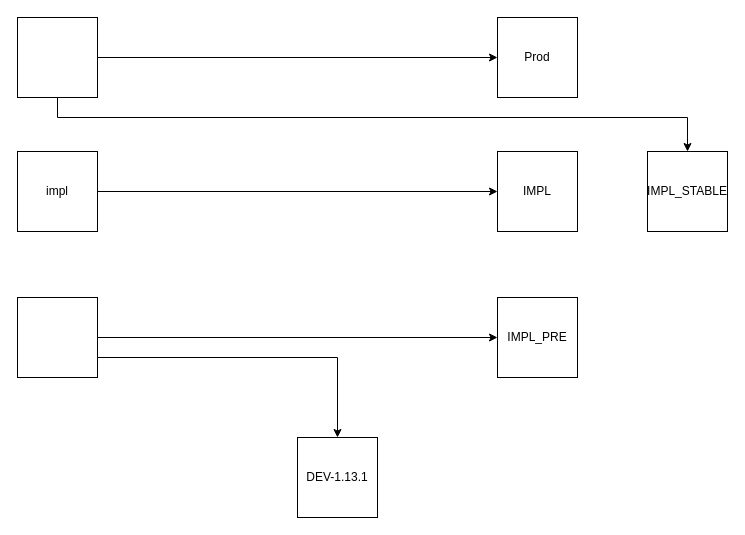
Some shapes in this 745 by 535 pixel diagram are drawn without their labels. The shapes that lost their labels are listed below. From the top down, each one's box as (x1, y1, x2, y2) in pixels, then its label:
(16, 16, 98, 98): main
(16, 296, 98, 378): develop
